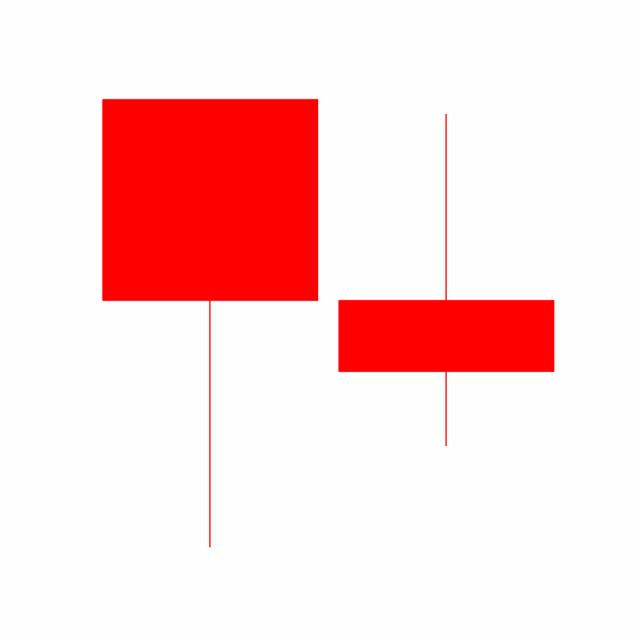Spinning Top: (327, 109, 565, 450)
